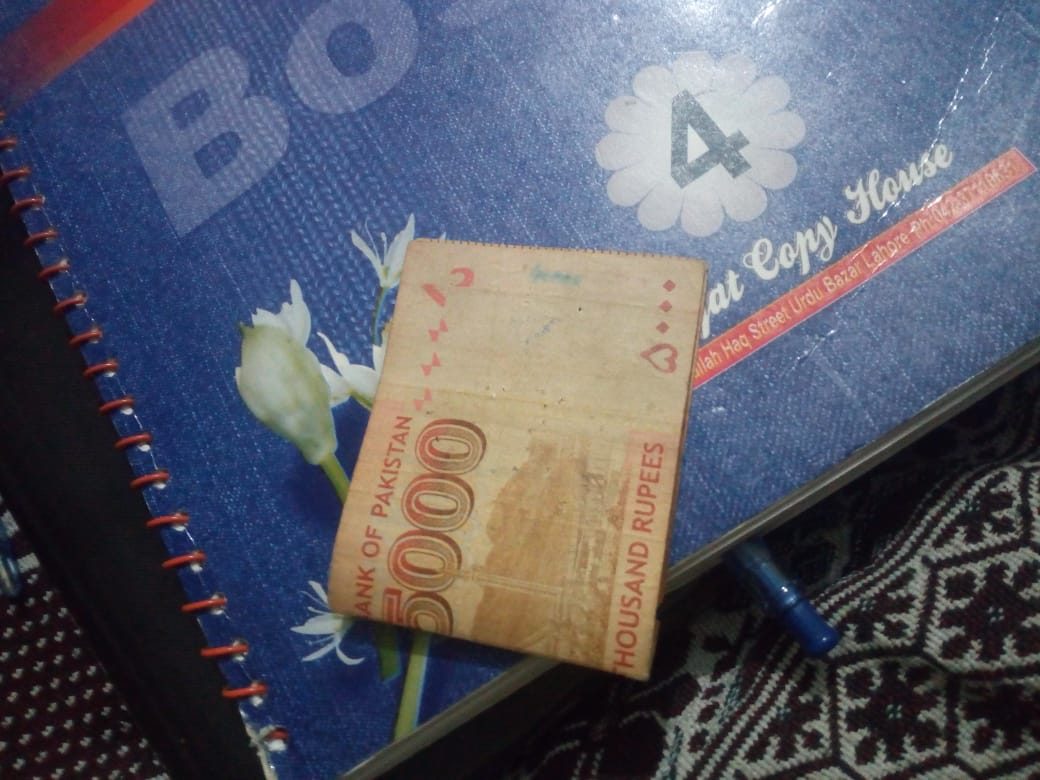5000 rupee: (331, 207, 724, 719)
